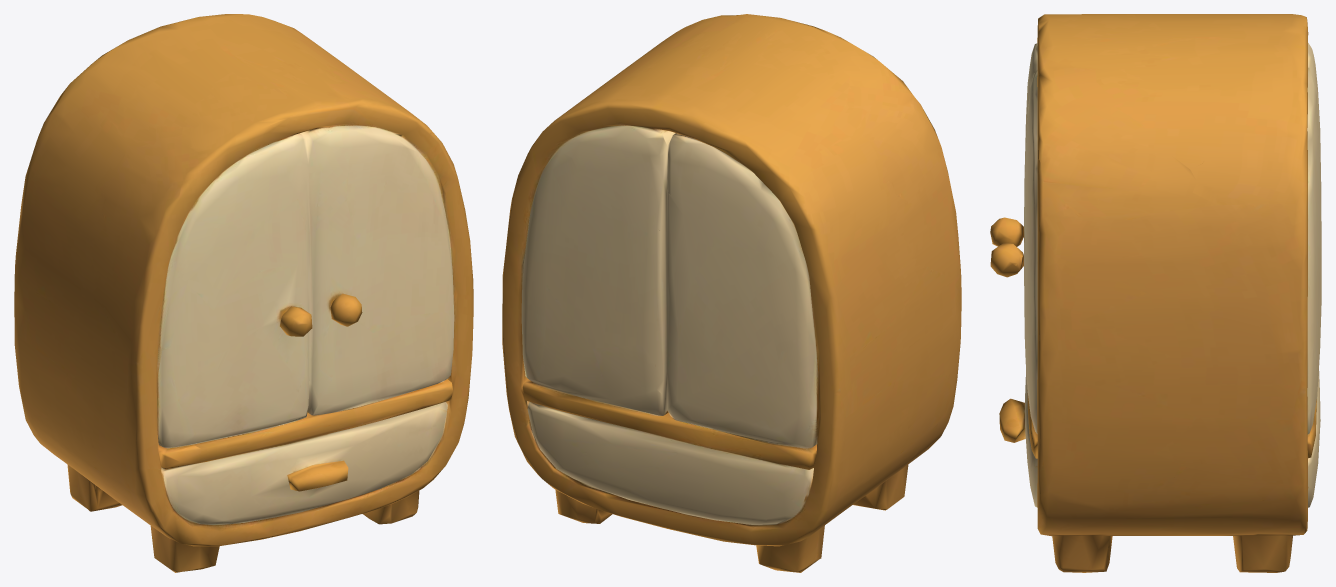
File: interieur-armoire.glb
3 views of the same model, side by side, from view 1: azimuth 30°, elevation 25°; view 2: azimuth 150°, elevation 25°; view 3: azimuth 270°, elevation 25° (orthographic). The views are drawn at different scales.
Parts seen in each view (by area): view 1: tripo_node_9c5386e5-76dd-49b0-a46f-eae95e5d7d39; view 2: tripo_node_9c5386e5-76dd-49b0-a46f-eae95e5d7d39; view 3: tripo_node_9c5386e5-76dd-49b0-a46f-eae95e5d7d39.
Part boxes in pixels (x1=…): tripo_node_9c5386e5-76dd-49b0-a46f-eae95e5d7d39: x1=14, y1=14, x2=473, y2=572; tripo_node_9c5386e5-76dd-49b0-a46f-eae95e5d7d39: x1=502, y1=14, x2=961, y2=572; tripo_node_9c5386e5-76dd-49b0-a46f-eae95e5d7d39: x1=990, y1=14, x2=1321, y2=572.
Size of the model in its own units: 0.8005 by 1 by 0.6335.
Materials: 1 (1 with a texture image).
